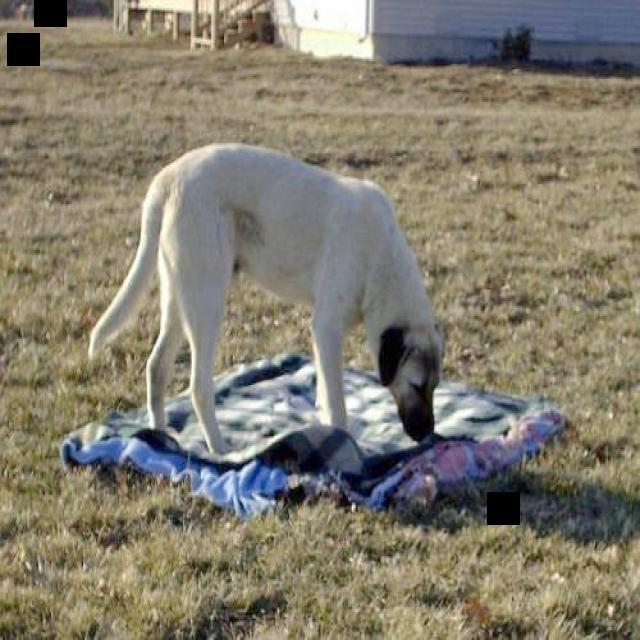adult_dog: (85, 141, 447, 459)
